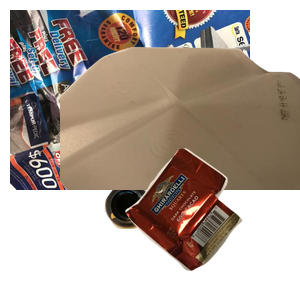glass: (102, 181, 246, 300)
paper: (10, 10, 250, 190)
plastic: (60, 44, 300, 224)
trash: (123, 145, 300, 300)
